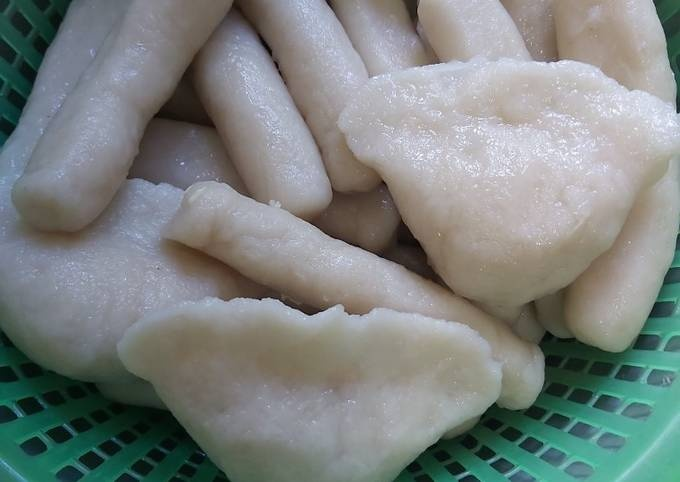pempek: (12, 13, 619, 415)
